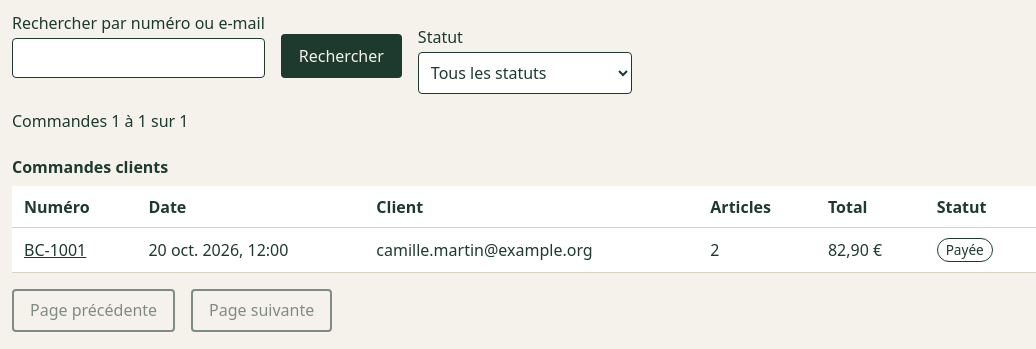
Test case: OrderList › affiche un message dédié quand les critères ne donnent rien et permet de les effacer
Check: the table is shown, box left=12, top=148, right=1035, bottom=273
Type "zzz" into the search field labelled "Rechercher par numéro ou e-mail" at point(138, 58), box left=12, top=38, right=265, bottom=78
Then press Enter
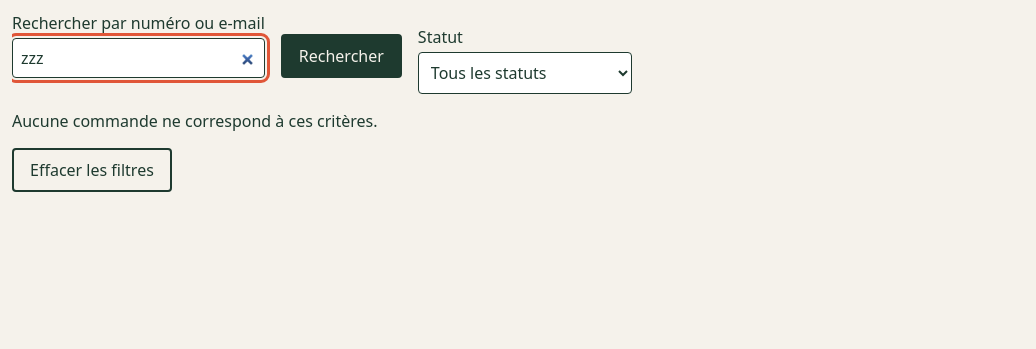
Check: the text "Aucune commande ne correspond à ces critères." is shown, box left=12, top=110, right=378, bottom=132
Click the button "Effacer les filtres" at point(92, 170), box left=12, top=148, right=172, bottom=192
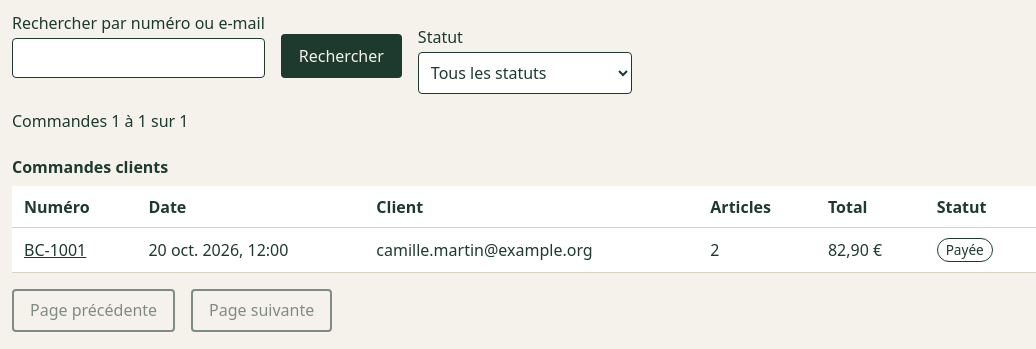
Check: the dropdown labelled "Statut" shows "Tous les statuts", box left=418, top=52, right=632, bottom=94
Check: the table is shown, box left=12, top=148, right=1035, bottom=273
Check: the search field labelled "Rechercher par numéro ou e-mail" is empty, box left=12, top=38, right=265, bottom=78
